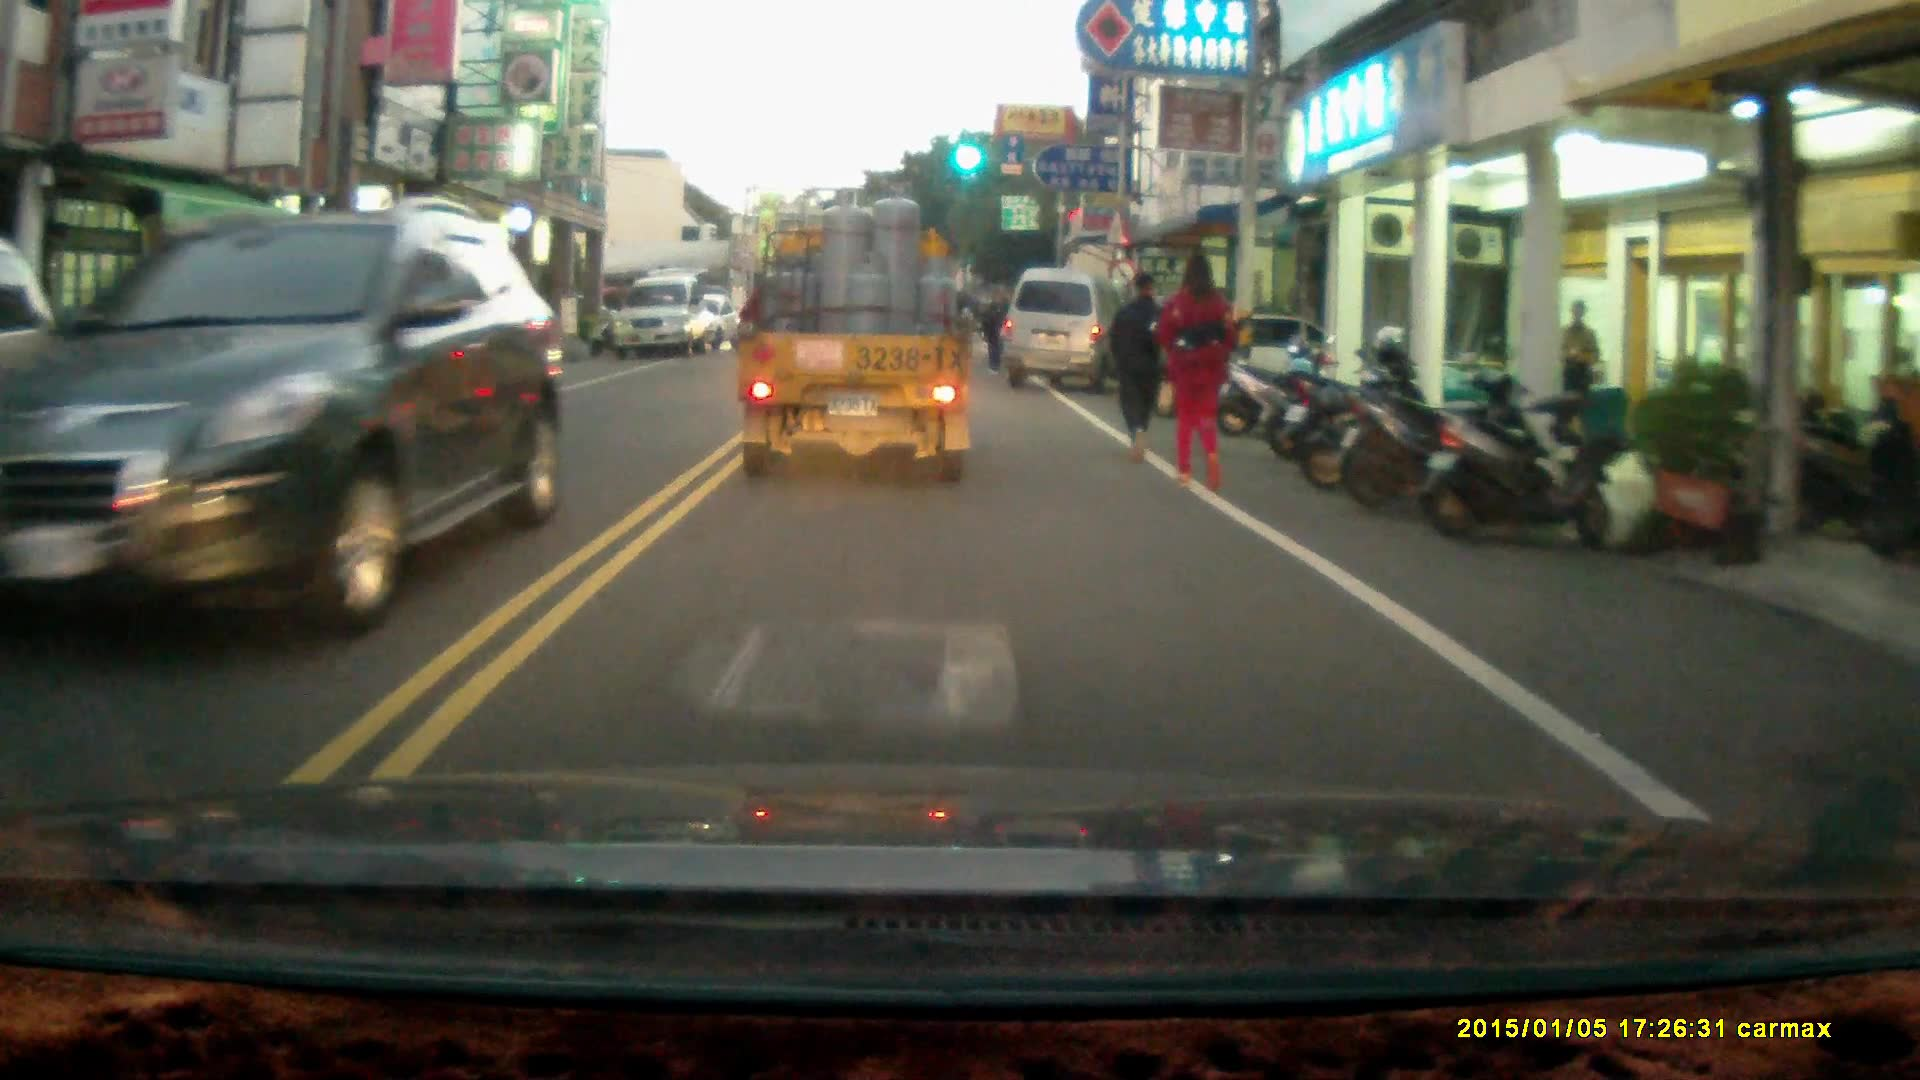pedestrian: (1159, 247, 1238, 496), (1102, 267, 1175, 461), (1556, 295, 1601, 441), (980, 288, 1013, 369)
vehicle: (1, 195, 568, 635), (734, 183, 984, 490), (214, 290, 477, 401), (1008, 268, 1135, 395), (611, 276, 718, 361)
